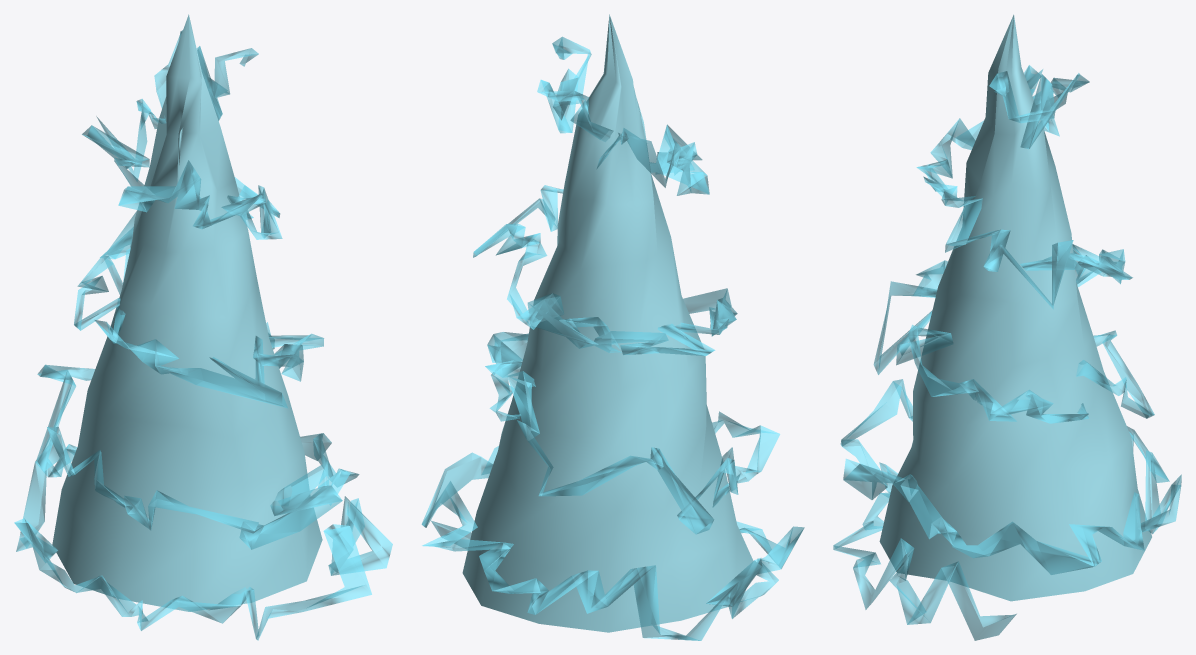
The model's file is Beam6.FBX.
The picture shows the model from 3 angles, left to right: view 1: azimuth 30°, elevation 25°; view 2: azimuth 150°, elevation 25°; view 3: azimuth 270°, elevation 25°; orthographic projection. The views are drawn at different scales.
Visible parts, largest first — view 1: Cone001, Helix001; view 2: Cone001, Helix001; view 3: Cone001, Helix001.
Boxes of the visible parts, x1,y1,x2,y2 form: Cone001: [52, 14, 322, 611]; Helix001: [14, 30, 392, 640]; Cone001: [462, 14, 753, 632]; Helix001: [421, 36, 804, 640]; Cone001: [879, 14, 1151, 601]; Helix001: [833, 65, 1181, 640].
Size of the model in its own units: 544 by 897 by 503.
